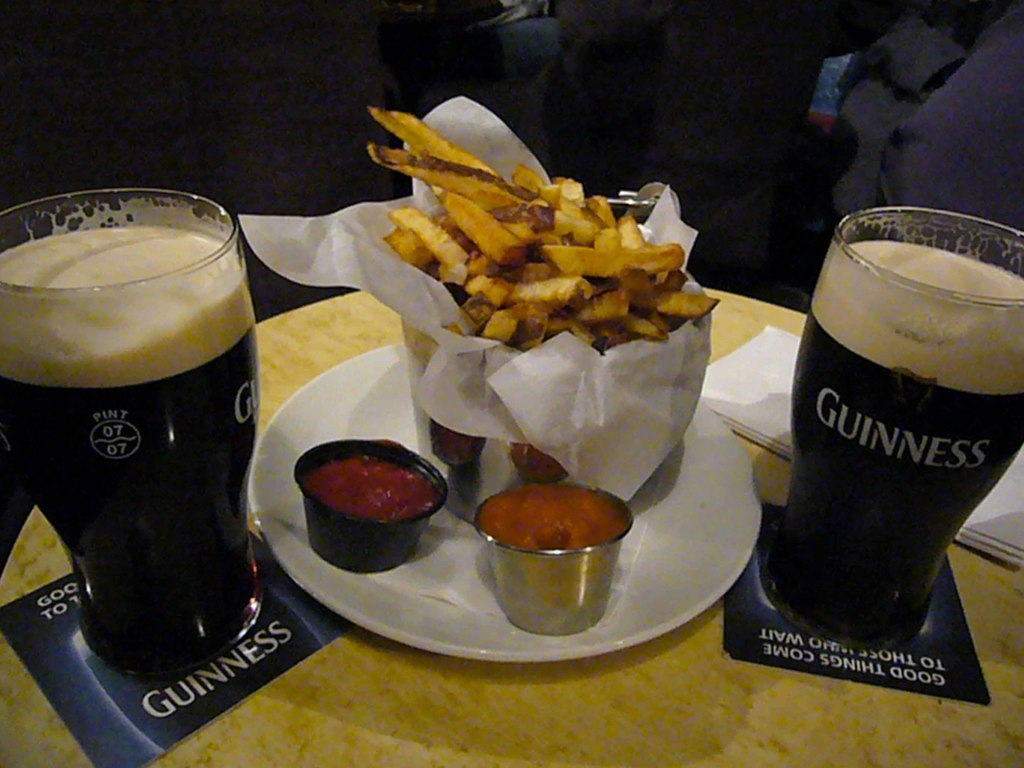French fries: (350, 95, 721, 350)
